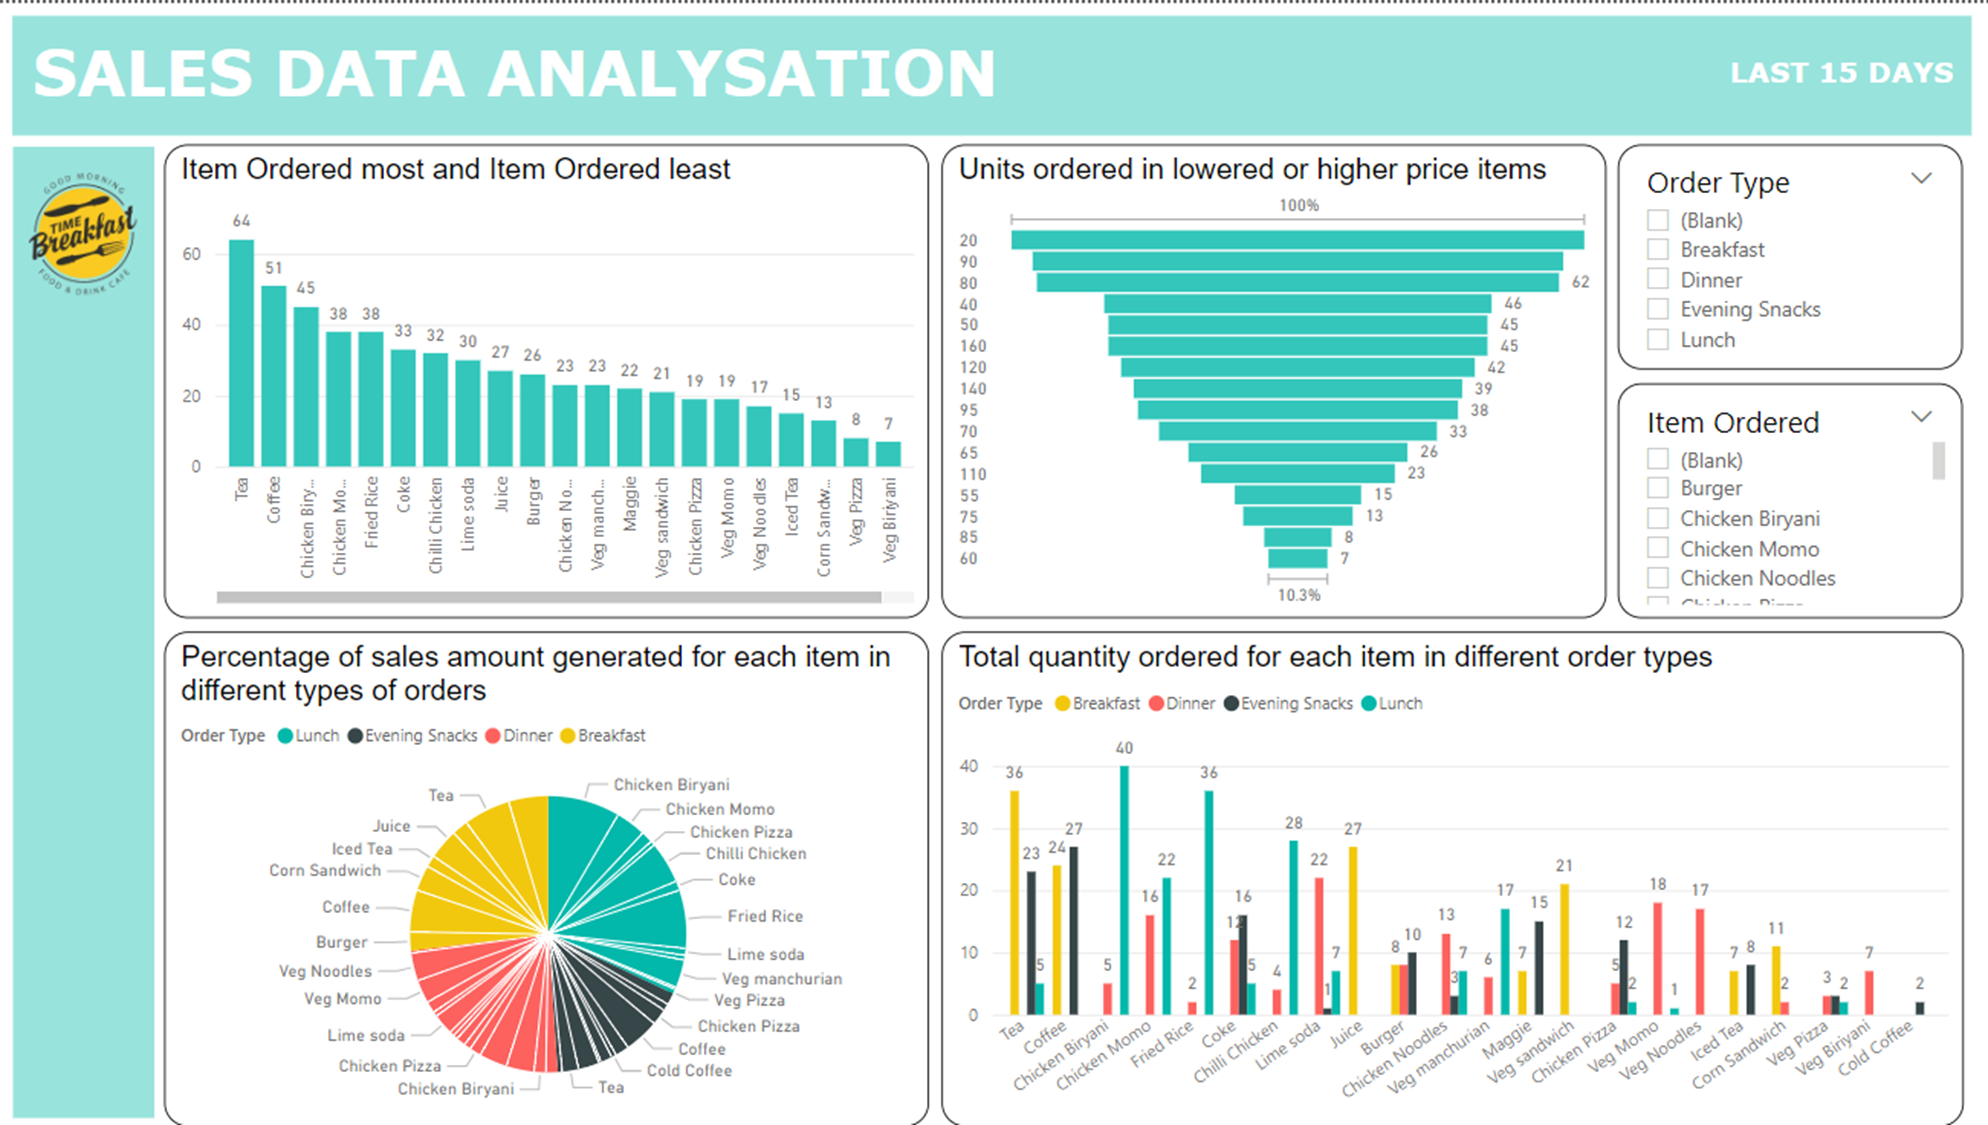

This screenshot's page, from the dashboard's own definition file:
{"tool":"powerbi","page":{"name":"Dashboard","canvas":[1280,720],"ordinal":4},"visuals":[{"type":"basicShape","box":[12.8,85.3,92.4,634.3],"z":0},{"type":"slicer","fields":{"Values":["Data.Order Type"]},"box":[1041.1,91,220.4,143.6],"z":1000},{"type":"slicer","fields":{"Values":["Data.Item Ordered"]},"box":[1041.1,243.2,220.4,150.8],"z":2000},{"type":"image","box":[0,85.3,118,126.6],"z":3000},{"type":"pieChart","title":"Percentage of sales amount generated for each item in different types of orders","fields":{"Category":["Data.Order Type"],"Series":["Data.Item Ordered"],"Y":["Sum(Data.Total Amount)"]},"box":[109.5,402.5,489.2,317.2],"z":4000},{"type":"basicShape","box":[0,7.1,1280,78.2],"z":5000},{"type":"textbox","box":[21.3,14.2,644.3,66.8],"z":6000},{"type":"textbox","box":[1057,28.1,204.3,34.5],"z":7000},{"type":"columnChart","title":"Item Ordered most and Item Ordered least","fields":{"Category":["Data.Item Ordered"],"Y":["Sum(Data.Quantity Ordered)"]},"box":[109.5,91,489.2,302.9],"z":8000},{"type":"funnel","title":"Units ordered in lowered or higher price items","fields":{"Category":["Data.Unit Price","Data.Item Ordered"],"Y":["Sum(Data.Quantity Ordered)"]},"box":[607.3,91,425.2,302.9],"z":9000},{"type":"clusteredColumnChart","title":"Total quantity ordered for each item in different order types","fields":{"Category":["Data.Item Ordered"],"Y":["Sum(Data.Quantity Ordered)"],"Series":["Data.Order Type"]},"box":[607.3,402.5,654.2,317.2],"z":10000}]}

Visuals, with their boxes in screenshot pixels (x1, y1, x2, y2), scaled from the page's 1280x720 canvas onto the 1988x1125 screenshot:
basicShape: x1=20, y1=133, x2=163, y2=1124
slicer - Data.Order Type: x1=1617, y1=142, x2=1959, y2=367
slicer - Data.Item Ordered: x1=1617, y1=380, x2=1959, y2=616
image: x1=0, y1=133, x2=183, y2=331
"Percentage of sales amount generated for each item in different types of orders" pieChart: x1=170, y1=629, x2=930, y2=1124
basicShape: x1=0, y1=11, x2=1987, y2=133
textbox: x1=33, y1=22, x2=1034, y2=127
textbox: x1=1642, y1=44, x2=1959, y2=98
"Item Ordered most and Item Ordered least" columnChart: x1=170, y1=142, x2=930, y2=615
"Units ordered in lowered or higher price items" funnel: x1=943, y1=142, x2=1604, y2=615
"Total quantity ordered for each item in different order types" clusteredColumnChart: x1=943, y1=629, x2=1959, y2=1124
